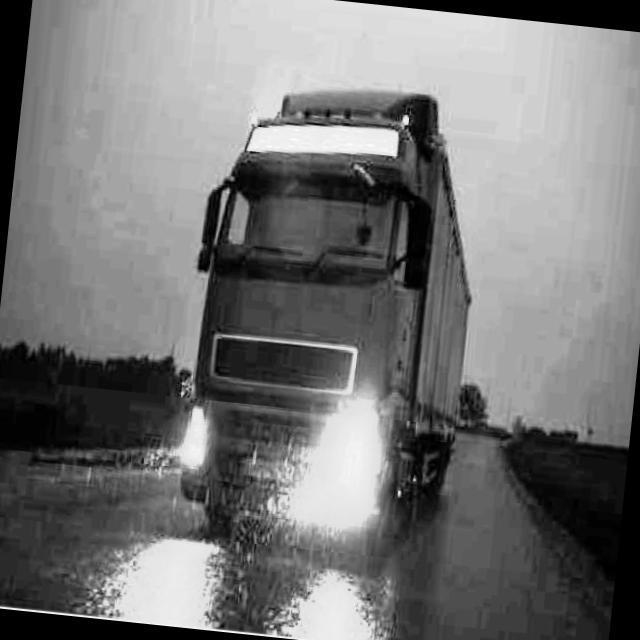Truck: (167, 68, 496, 566)
